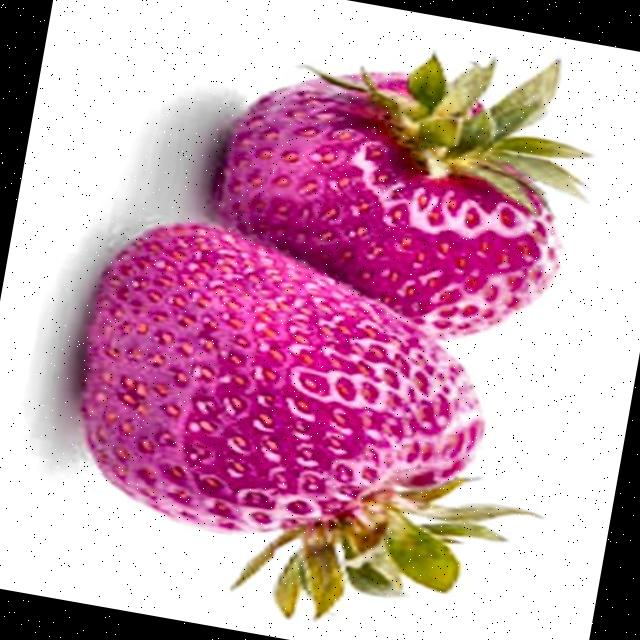strawberry: (81, 223, 528, 617), (212, 57, 587, 338)
